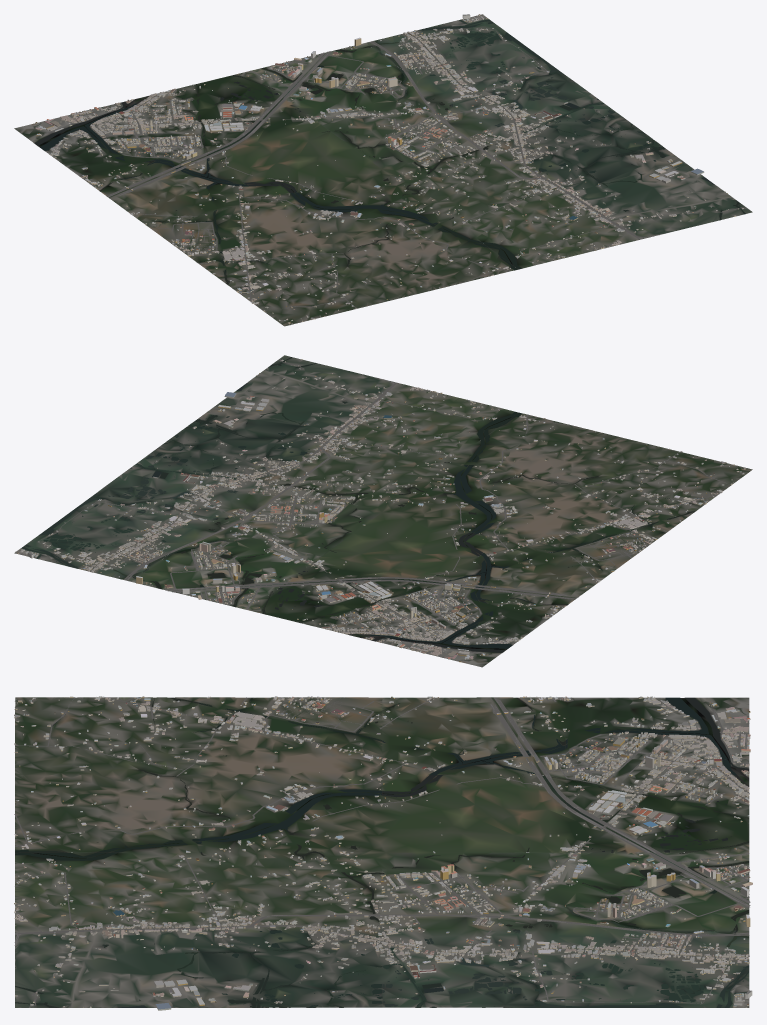
The picture shows the model from 3 angles, top to bottom: view 1: azimuth 30°, elevation 25°; view 2: azimuth 150°, elevation 25°; view 3: azimuth 270°, elevation 25°; orthographic projection. The views are drawn at different scales.
Parts seen in each view (by area): view 1: ground, buildings, water, roads; view 2: ground, buildings, water, roads; view 3: ground, buildings, water, roads.
Part boxes in pixels (x1,y1,x2,y2): ground: [14, 14, 752, 326]; buildings: [35, 14, 743, 324]; water: [34, 19, 745, 306]; roads: [45, 16, 747, 325]; ground: [14, 355, 752, 667]; buildings: [15, 359, 746, 662]; water: [22, 357, 701, 652]; roads: [20, 359, 746, 657]; ground: [15, 697, 749, 1007]; buildings: [14, 696, 752, 1010]; water: [15, 697, 749, 1007]; roads: [14, 697, 750, 1007].
Bounding box in the file's own units: 5662 × 90.55 × 5638.
